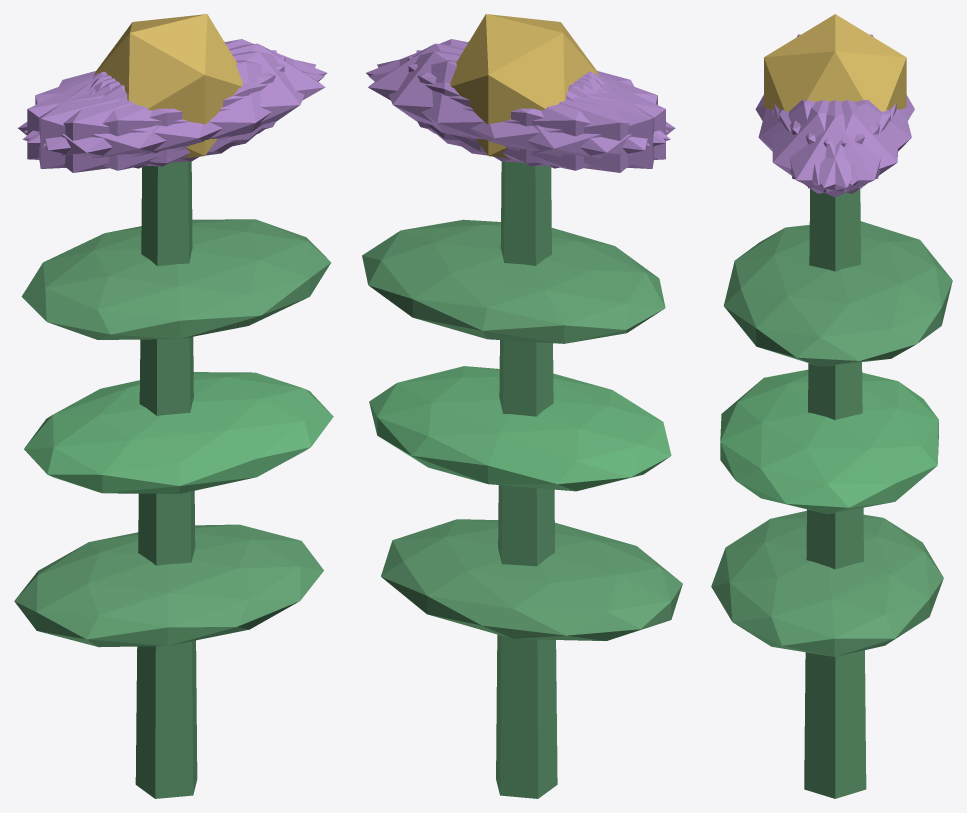
File: basella-alba.glb
3 views of the same model, side by side, from view 1: azimuth 30°, elevation 25°; view 2: azimuth 150°, elevation 25°; view 3: azimuth 270°, elevation 25° (orthographic).
Visible parts, largest first — view 1: leaf0, leaf2, leaf1, stem, center, petal1, petal6, petal2, petal5, petal7, petal0, petal4 (+2 smaller); view 2: leaf2, leaf1, leaf0, stem, center, petal8, petal3, petal7, petal4, petal2, petal0, petal5 (+2 smaller); view 3: leaf2, leaf1, leaf0, stem, center, petal0, petal5, petal4, petal1, petal8.
Part boxes in pixels (bbox=[...]): leaf0: bbox=[14, 524, 323, 647]; leaf2: bbox=[21, 219, 331, 339]; leaf1: bbox=[24, 372, 333, 493]; stem: bbox=[135, 161, 197, 798]; center: bbox=[94, 14, 242, 158]; petal1: bbox=[22, 60, 324, 170]; petal6: bbox=[18, 73, 236, 172]; petal2: bbox=[39, 50, 276, 168]; petal5: bbox=[43, 51, 315, 163]; petal7: bbox=[27, 56, 285, 166]; petal0: bbox=[94, 43, 325, 152]; petal4: bbox=[24, 39, 327, 143]; leaf2: bbox=[362, 219, 665, 343]; leaf1: bbox=[369, 366, 671, 491]; leaf0: bbox=[381, 519, 682, 640]; stem: bbox=[496, 161, 557, 798]; center: bbox=[450, 14, 599, 158]; petal8: bbox=[368, 60, 670, 170]; petal3: bbox=[456, 73, 675, 172]; petal7: bbox=[416, 50, 654, 168]; petal4: bbox=[377, 51, 649, 163]; petal2: bbox=[407, 56, 665, 166]; petal0: bbox=[368, 43, 599, 152]; petal5: bbox=[366, 39, 669, 143]; leaf2: bbox=[723, 221, 952, 366]; leaf1: bbox=[720, 369, 938, 514]; leaf0: bbox=[711, 510, 943, 656]; stem: bbox=[804, 188, 866, 798]; center: bbox=[764, 14, 906, 111]; petal0: bbox=[774, 100, 896, 197]; petal5: bbox=[772, 100, 890, 193]; petal4: bbox=[779, 100, 898, 193]; petal1: bbox=[758, 99, 880, 185]; petal8: bbox=[790, 99, 911, 185].
Bounding box in the file's own units: 0.1452 × 0.356 × 0.1036.
